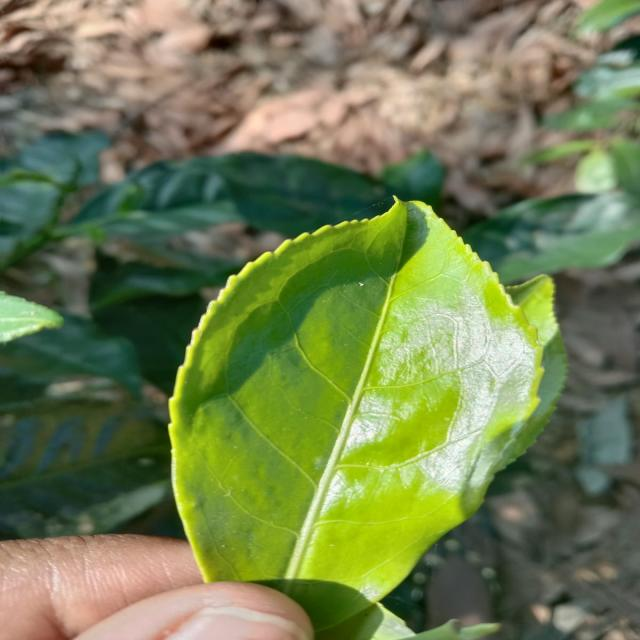Category B(2-4 days): (133, 189, 552, 636)
